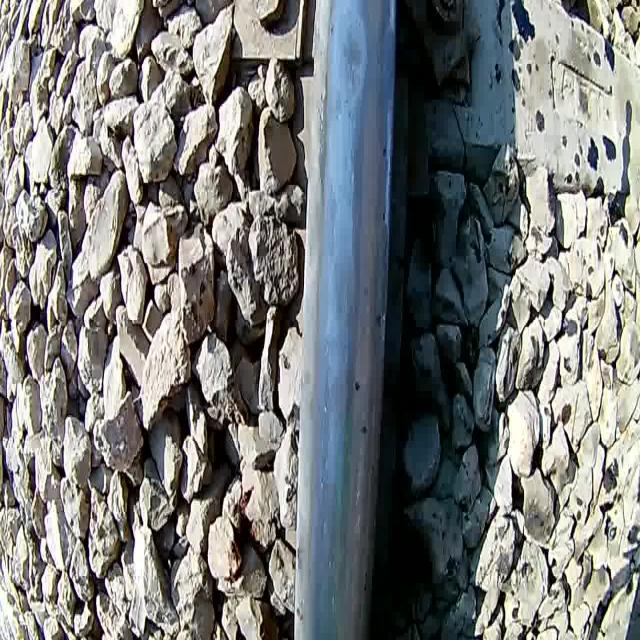Spallings: (333, 0, 398, 640)
Squats: (333, 5, 370, 111)
